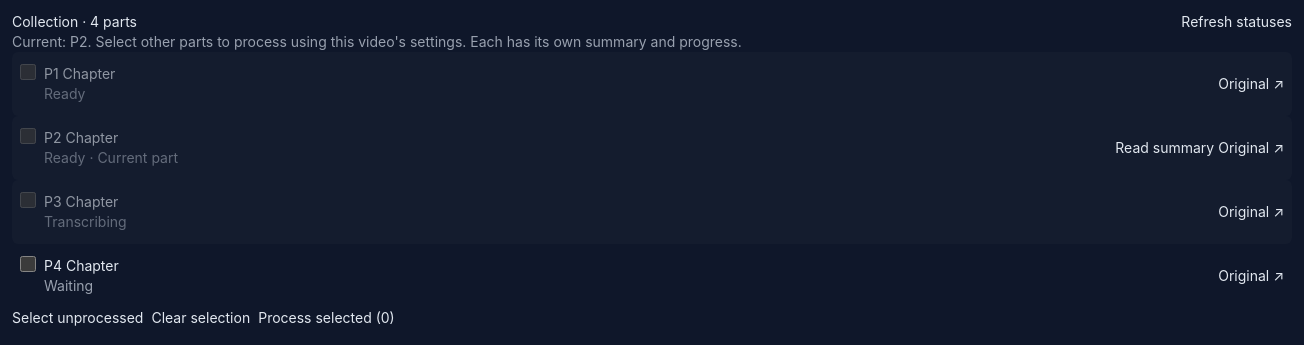
mutes current, ready and running parts and highlights selected rows and the action
expect the checkbox labelled "P1 Chapter Ready" is disabled: met, box x1=20 y1=64 x2=36 y2=80
expect the checkbox labelled "P2 Chapter Ready · Current part" is disabled: met, box x1=20 y1=128 x2=36 y2=144
Click the button "Select unprocessed" at (78,318), box x1=12 y1=308 x2=144 y2=328
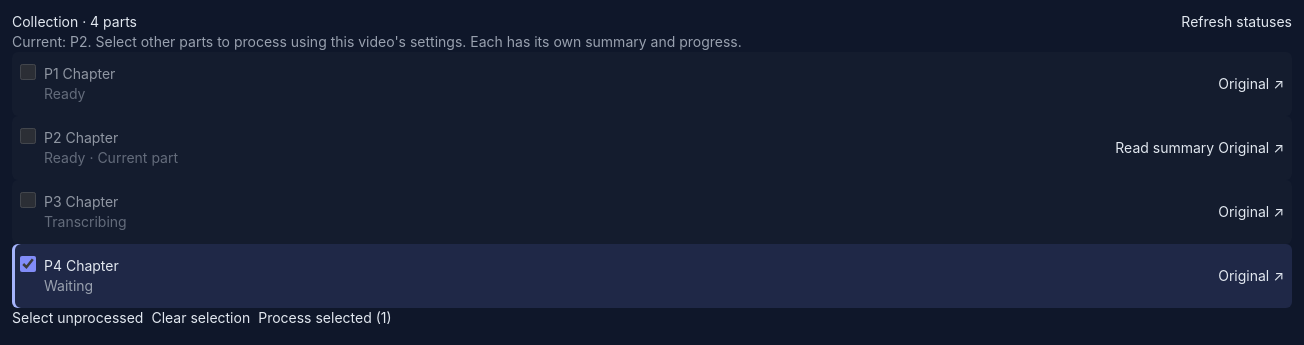
expect the button "Process selected (1)" is shown: met, box x1=258 y1=308 x2=392 y2=328
Click the button "Clear selection" at (201,318), box x1=152 y1=308 x2=250 y2=328
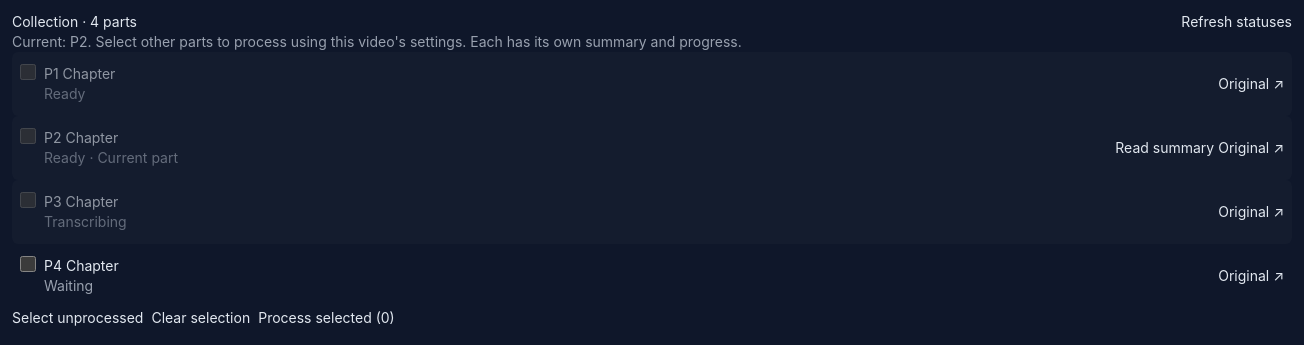
expect the button "Process selected (0)" is disabled: met, box x1=258 y1=308 x2=395 y2=328
